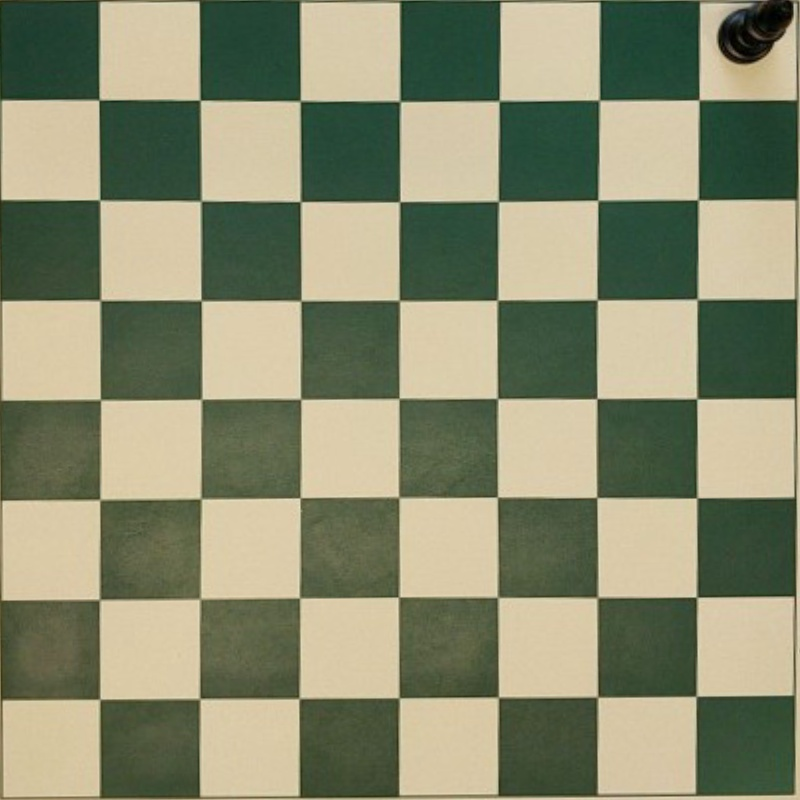black-bishop: (719, 0, 794, 63)
